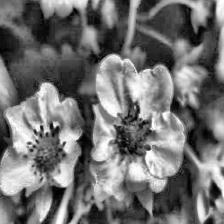Blossom Blight: (21, 122, 70, 186), (108, 102, 154, 166)
